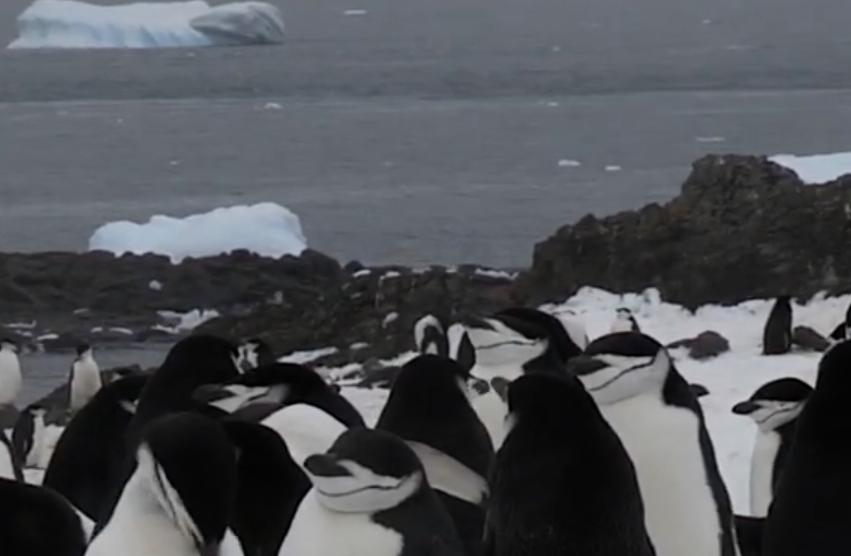Chinstrap Penguin: (559, 308, 748, 556), (60, 402, 306, 556), (261, 423, 501, 556), (368, 330, 508, 532), (442, 294, 566, 420), (832, 274, 851, 518)
